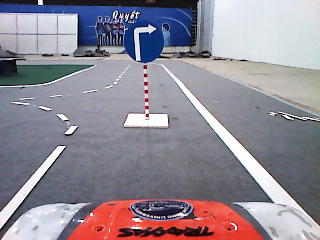turn: (122, 18, 165, 65)
